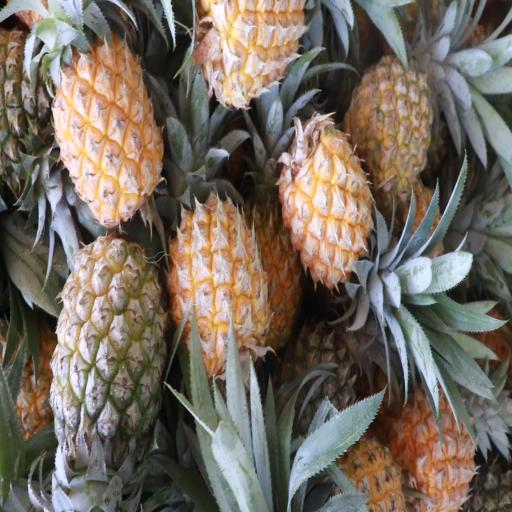------------------------------: (54, 240, 165, 461), (347, 60, 430, 195)
Pineapple - v8 v1: (54, 38, 158, 223), (170, 198, 263, 374), (284, 121, 373, 284), (394, 373, 479, 512), (202, 0, 304, 102), (243, 209, 300, 348)
